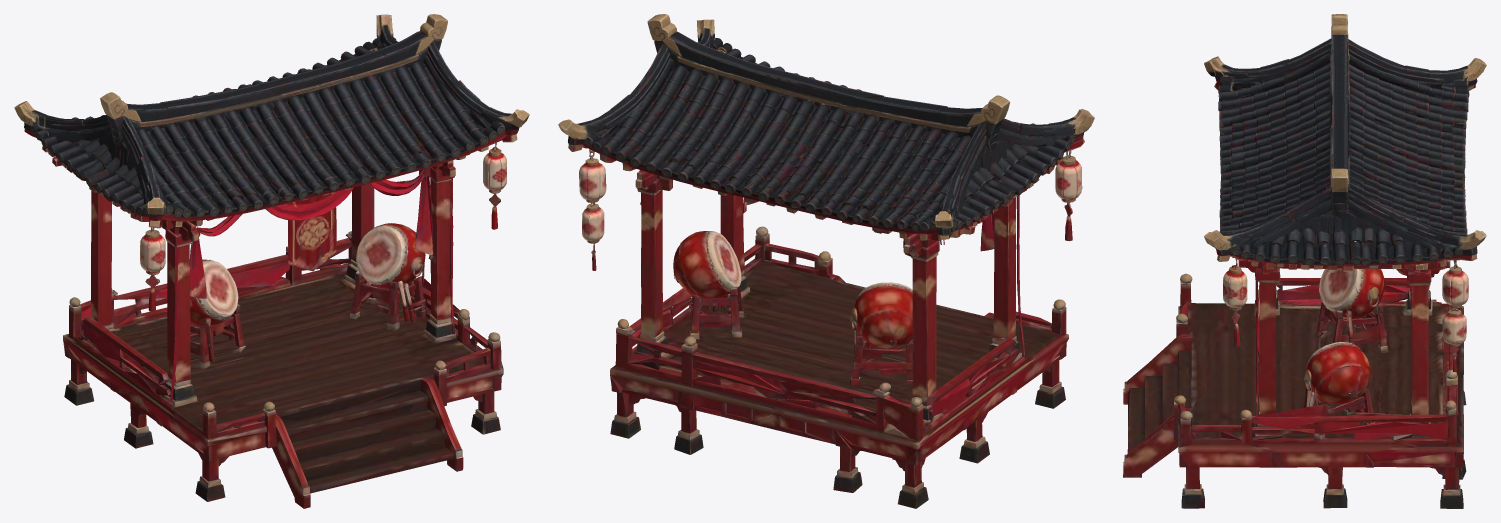
File: festival.glb
3 views of the same model, side by side, from view 1: azimuth 30°, elevation 25°; view 2: azimuth 150°, elevation 25°; view 3: azimuth 270°, elevation 25° (orthographic). The views are drawn at different scales.
Visible parts, largest first — view 1: Mesh_0; view 2: Mesh_0; view 3: Mesh_0.
Boxes of the visible parts, <box> form: Mesh_0: <box>14,14,529,508</box>; Mesh_0: <box>558,14,1094,508</box>; Mesh_0: <box>1123,14,1486,508</box>.
Size of the model in its own units: 1.9 by 1.68 by 1.6.
1 material, 1 textured.
